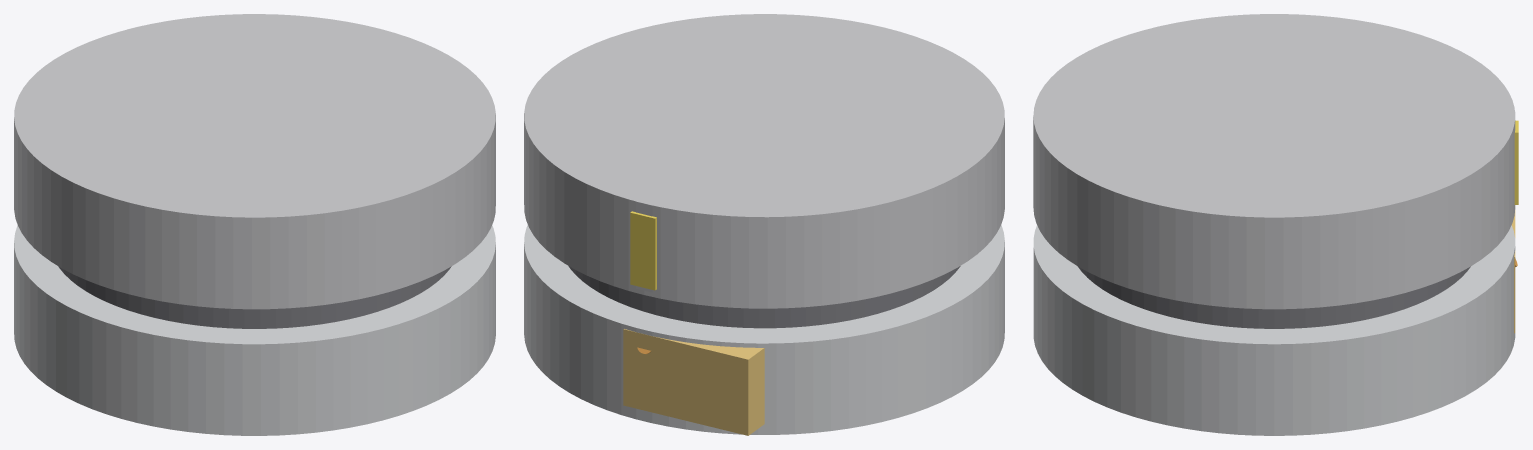
The model's file is robo01_rotor_xs_rot90.glb.
The picture shows the model from 3 angles, left to right: view 1: azimuth 30°, elevation 25°; view 2: azimuth 150°, elevation 25°; view 3: azimuth 270°, elevation 25°; orthographic projection.
Parts seen in each view (by area): view 1: half_b_rotor, base, bearing; view 2: half_b_rotor, base, drive, bearing, half_b_mark; view 3: half_b_rotor, base, bearing.
Boxes of the visible parts, x1,y1,x2,y2 form: half_b_rotor: (14, 14, 495, 309); base: (14, 225, 495, 435); bearing: (58, 266, 451, 328); half_b_rotor: (524, 14, 1004, 308); base: (524, 225, 1004, 434); drive: (623, 329, 764, 435); bearing: (568, 266, 960, 328); half_b_mark: (630, 211, 656, 290); half_b_rotor: (1033, 14, 1515, 309); base: (1033, 225, 1515, 435); bearing: (1078, 266, 1470, 328).
Bounding box in the file's own units: 0.3 × 0.15 × 0.302.
